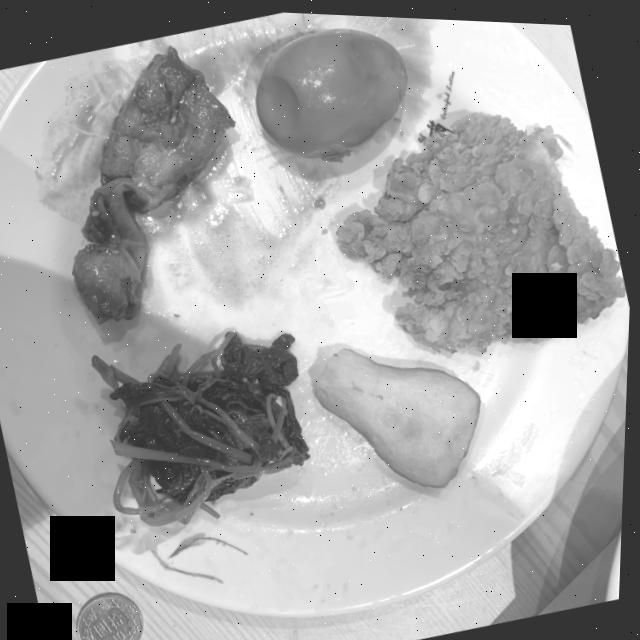coin: (81, 590, 148, 640)
creamy tofu: (74, 44, 236, 322)
fried chicken cutlet: (338, 107, 628, 347)
soy egg: (256, 25, 408, 158)
sweet potato leaves: (94, 329, 312, 524)
